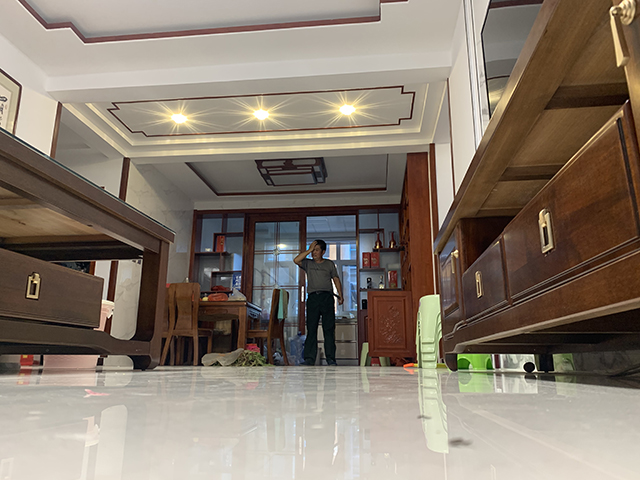cabinet: (431, 1, 640, 373), (367, 151, 433, 363), (317, 323, 359, 366)
stool: (160, 282, 214, 366), (245, 289, 293, 367), (414, 294, 443, 369), (455, 353, 495, 371)
table: (1, 125, 176, 372), (198, 299, 265, 359)
trashcan: (41, 295, 114, 368)
